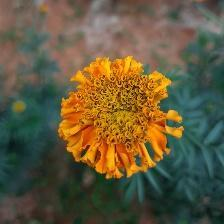marigold: (59, 57, 187, 182)
